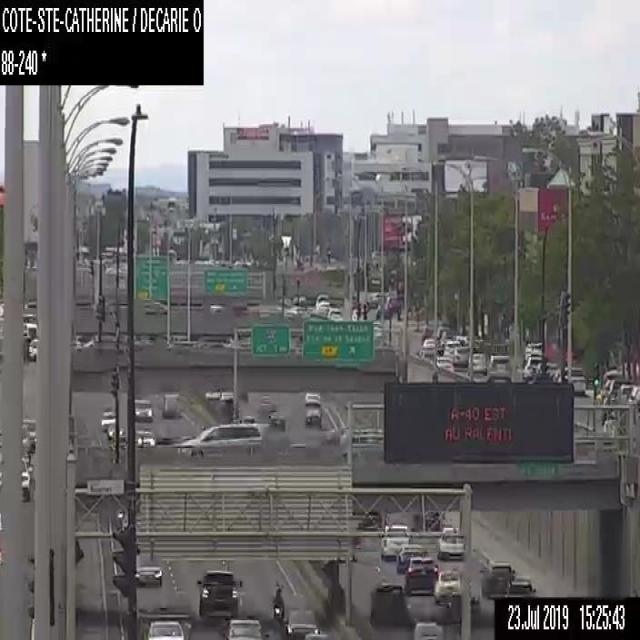vehicle: (177, 418, 264, 450), (195, 570, 242, 622), (368, 582, 408, 627), (478, 559, 514, 598), (599, 370, 628, 414), (405, 556, 437, 594), (604, 380, 636, 418), (378, 524, 409, 561), (142, 616, 185, 639), (284, 608, 318, 637), (436, 526, 464, 560), (394, 544, 428, 572), (503, 577, 537, 601), (223, 618, 262, 638), (434, 570, 460, 600), (486, 355, 511, 383), (562, 367, 586, 395), (135, 562, 161, 586), (303, 391, 321, 425), (411, 621, 444, 639), (21, 455, 33, 503), (160, 391, 181, 417), (271, 581, 284, 622), (22, 419, 37, 452), (524, 356, 542, 379), (135, 398, 153, 420), (22, 313, 37, 337), (470, 352, 486, 374), (20, 424, 30, 459), (385, 296, 400, 319), (452, 346, 469, 365), (443, 339, 461, 356), (134, 431, 154, 446), (626, 384, 639, 406), (100, 410, 115, 428), (74, 334, 94, 347), (619, 383, 632, 403), (269, 414, 285, 430), (366, 292, 383, 307), (437, 356, 452, 372), (106, 424, 123, 438), (28, 338, 37, 363), (421, 338, 434, 354), (375, 304, 388, 320), (327, 306, 342, 319), (303, 632, 330, 639), (454, 334, 468, 347), (351, 308, 365, 320), (630, 390, 639, 408), (220, 390, 232, 400), (204, 391, 220, 398), (317, 300, 329, 309)
